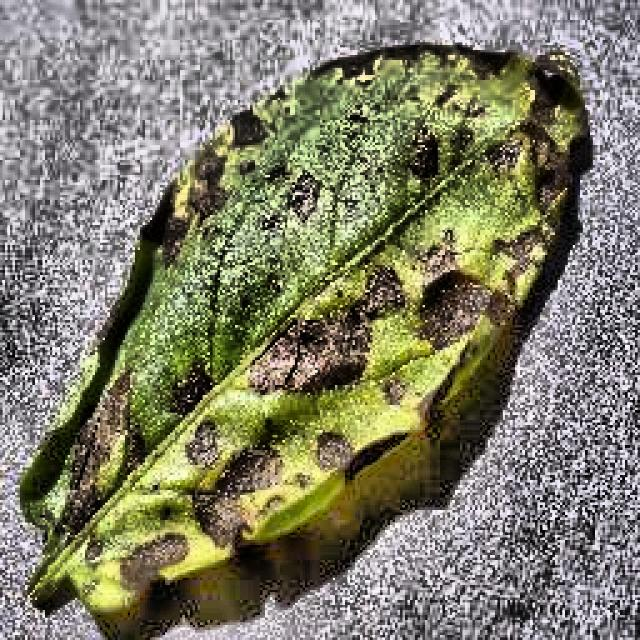Potato_leaf_early_blight: (0, 3, 638, 638)
